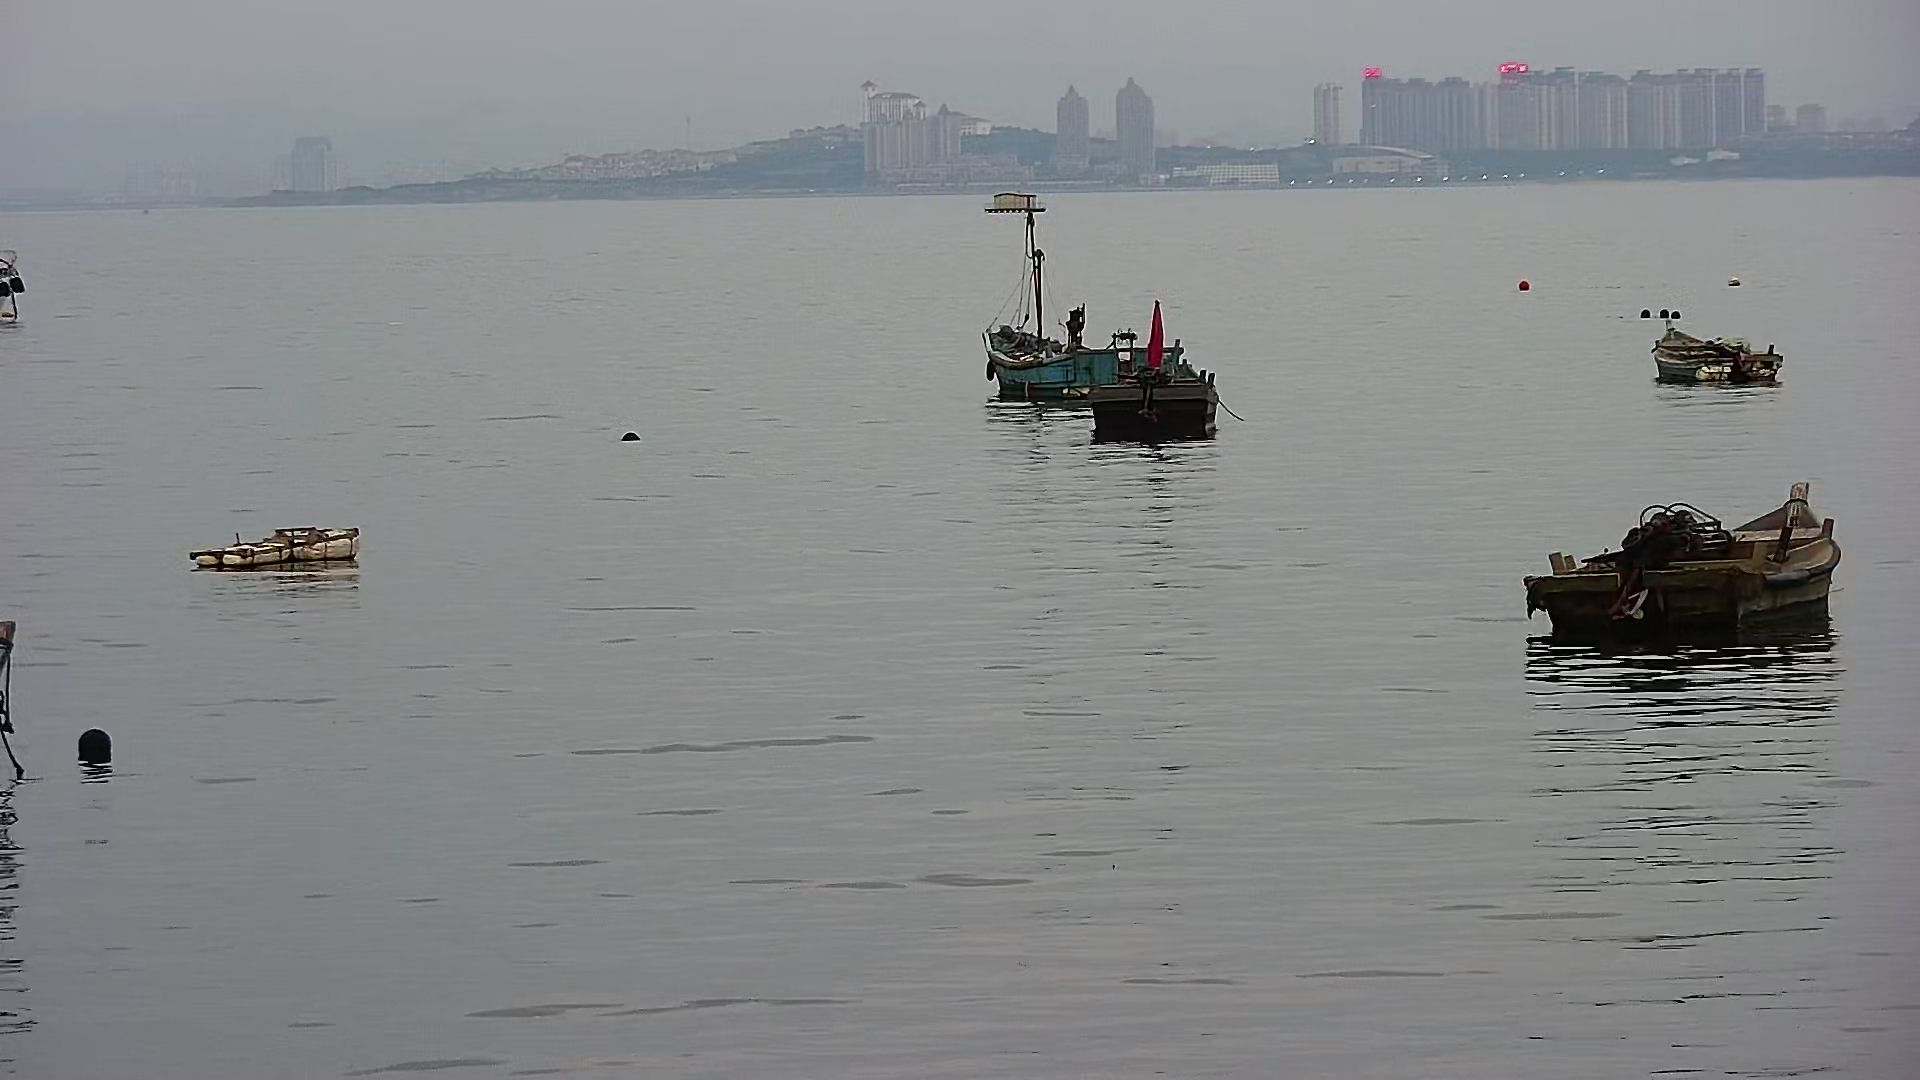ball: (73, 719, 116, 775)
boat: (1514, 479, 1842, 649), (973, 303, 1160, 415), (1095, 313, 1226, 450), (1654, 320, 1788, 406)
platform: (982, 185, 1044, 219)
rubbish: (185, 516, 367, 576)
